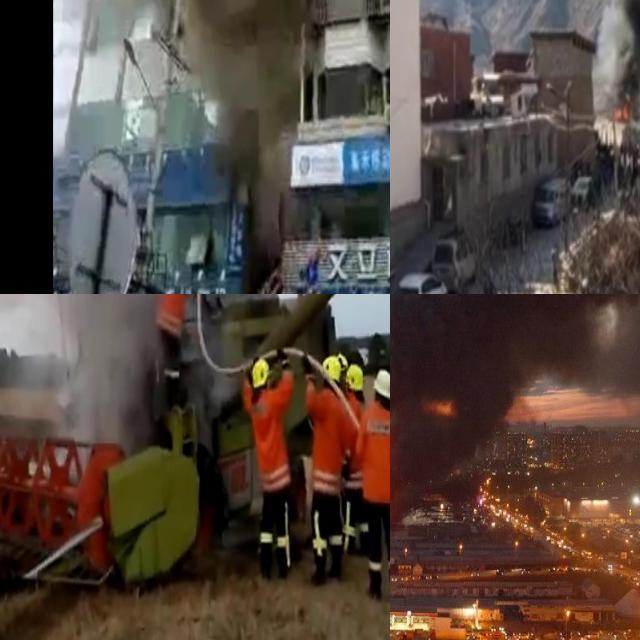fire: (612, 102, 631, 122)
smoke: (56, 0, 317, 242), (390, 294, 640, 488), (0, 294, 194, 449)
